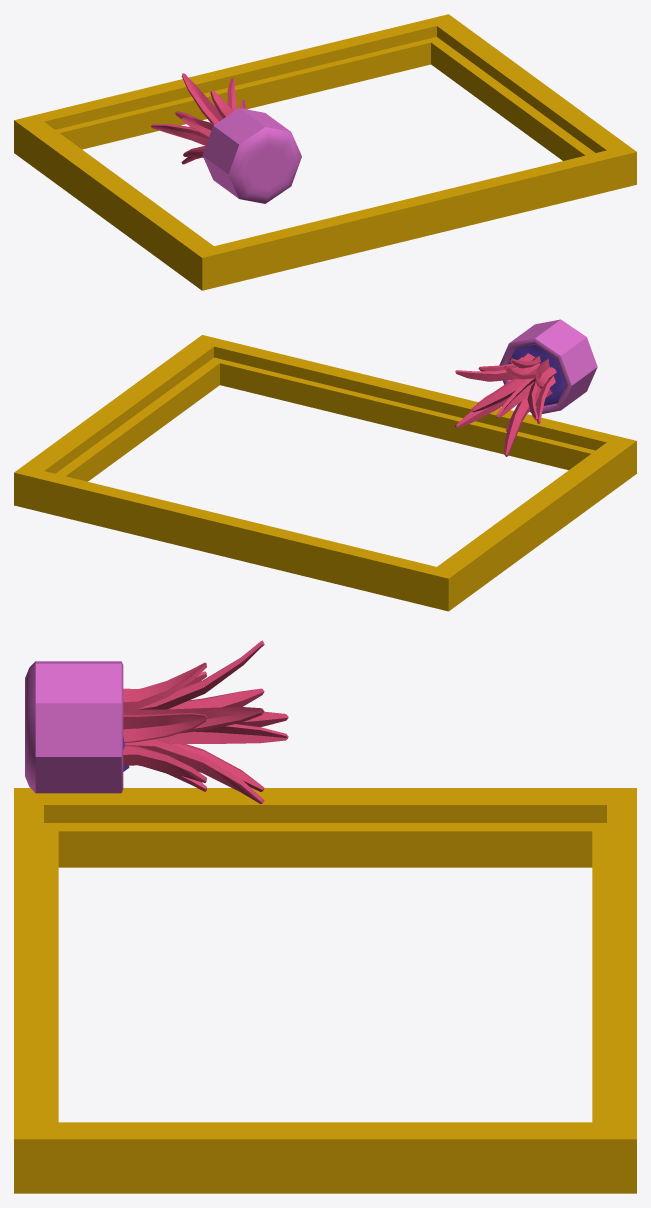
The model's file is windowgltf.gltf.
3 renders of one model, top to bottom at view 1: azimuth 30°, elevation 25°; view 2: azimuth 150°, elevation 25°; view 3: azimuth 270°, elevation 25°, orthographic. The views are drawn at different scales.
Visible parts, largest first — view 1: dirt; view 2: dirt; view 3: dirt.
Boxes of the visible parts, x1,y1,x2,y2 form: dirt: (14,14,636,290); dirt: (14,319,636,611); dirt: (14,640,636,1193).
Size of the model in its own units: 28.02 by 9.18 by 21.01.
